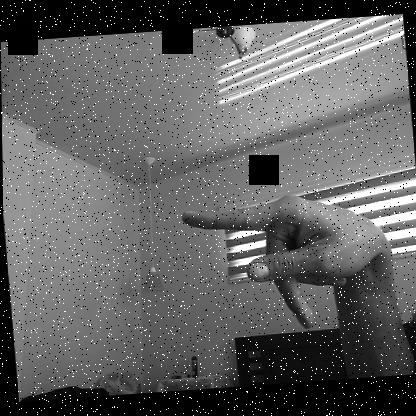P: (178, 189, 386, 339)
